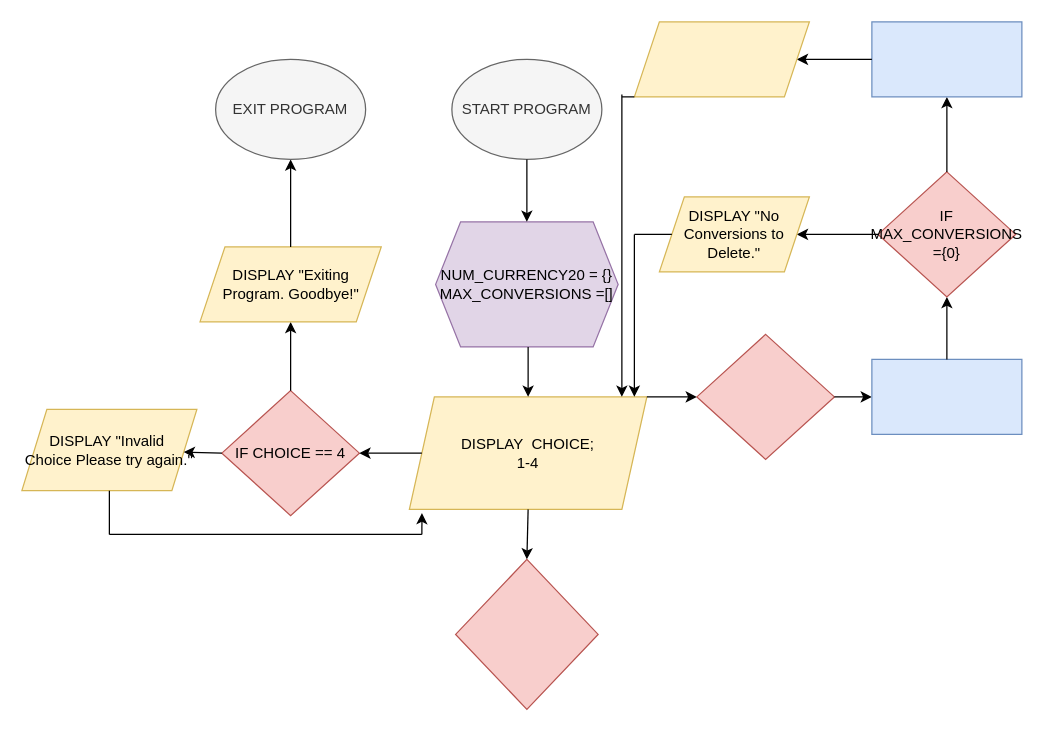
Some shapes in this 1044 by 731 pixel diagram are drawn without their labels. Each missing label, with the centre of its shape:
CHECKS PREVIOUS CONVERSION DATA MAX_CONVERSIONS ={}: point 946,396
Delete MAX_CONVERSION ={} Data: point 946,59
DISPLAY "All Conversions successfully deleted": point 721,59
IF CHOICE == 1: point 526,633
IF CHOICE == 3: point 765,396
